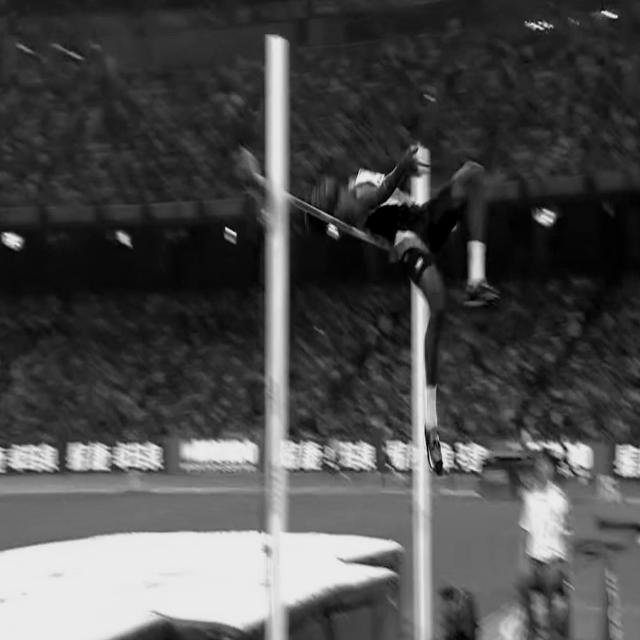jump: (304, 142, 501, 478)
